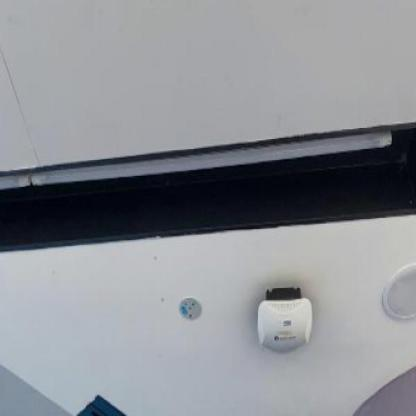light_off: (0, 37, 401, 238)
